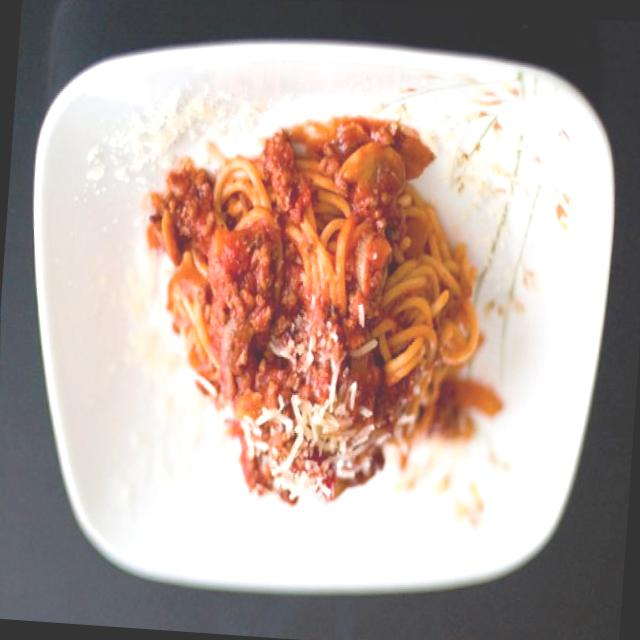Pasta: (125, 82, 505, 528)
